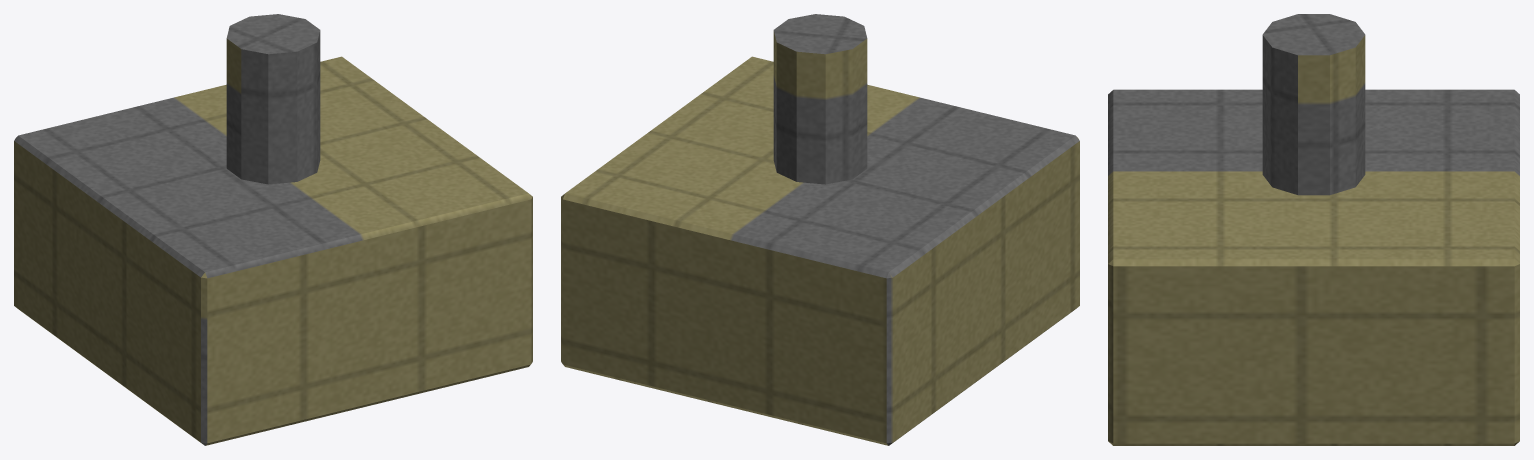
Rendered from miner.glb.
The picture shows the model from 3 angles, left to right: view 1: azimuth 30°, elevation 25°; view 2: azimuth 150°, elevation 25°; view 3: azimuth 270°, elevation 25°; orthographic projection. The views are drawn at different scales.
Visible parts, largest first — view 1: miner; view 2: miner; view 3: miner.
Part boxes in pixels (<box>): miner: <box>14,14,532,445</box>; miner: <box>561,14,1079,445</box>; miner: <box>1108,14,1519,445</box>.
Bounding box in the file's own units: 0.8 × 0.7 × 0.8.
1 material, 1 textured.
